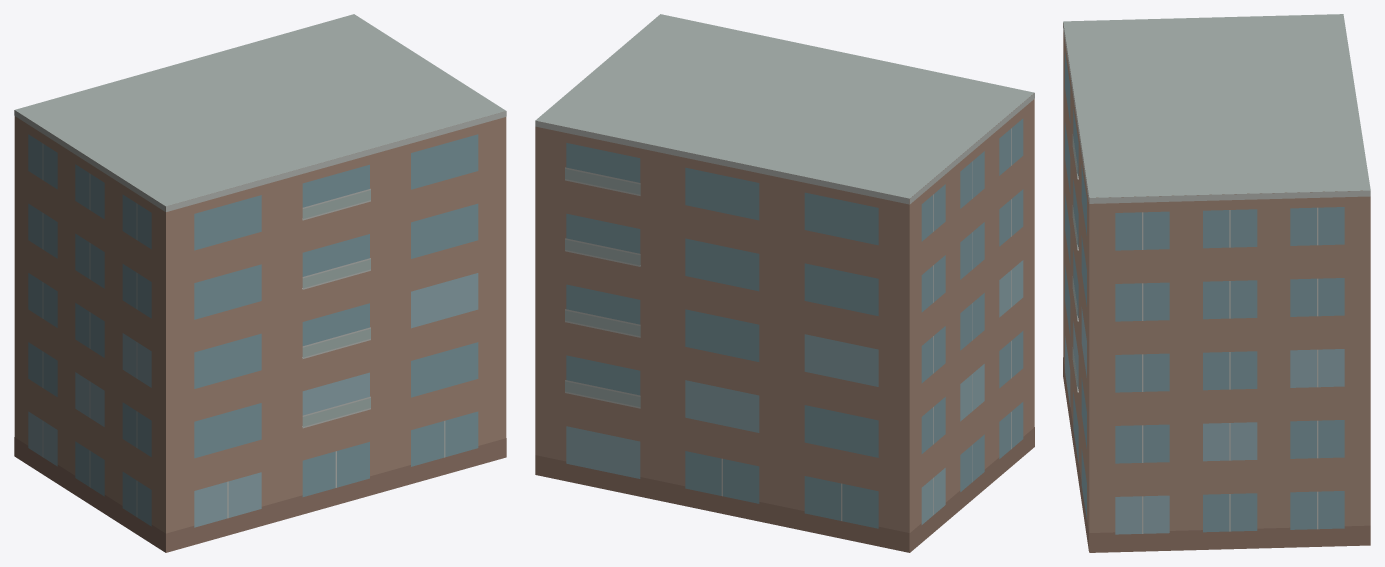
File: survey-upis-32988392.glb
3 views of the same model, side by side, from view 1: azimuth 30°, elevation 25°; view 2: azimuth 150°, elevation 25°; view 3: azimuth 270°, elevation 25° (orthographic). The views are drawn at different scales.
Visible parts, largest first — view 1: survey-upis-32988392.tmp; view 2: survey-upis-32988392.tmp; view 3: survey-upis-32988392.tmp.
Part boxes in pixels (box(x1,y1,x2,y2)): survey-upis-32988392.tmp: box(14, 14, 506, 552); survey-upis-32988392.tmp: box(535, 14, 1034, 552); survey-upis-32988392.tmp: box(1063, 14, 1370, 552).
Size of the model in its own units: 16.15 by 14.52 by 11.42.
